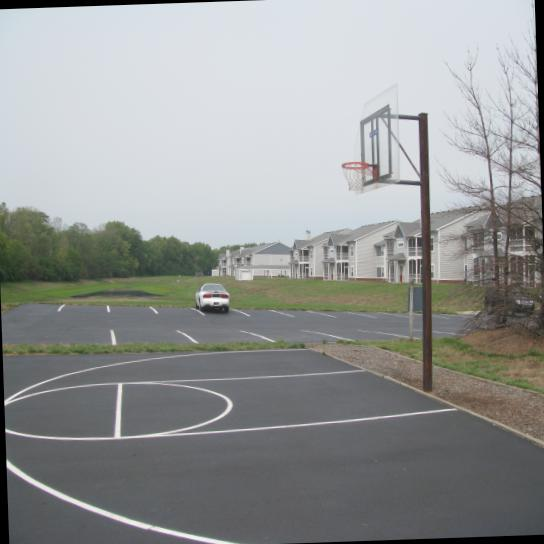basketball-hoop: (340, 159, 368, 196)
